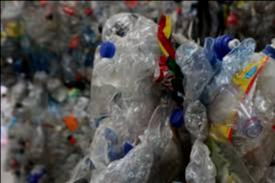Plastic: (176, 40, 264, 142), (95, 44, 168, 93)
